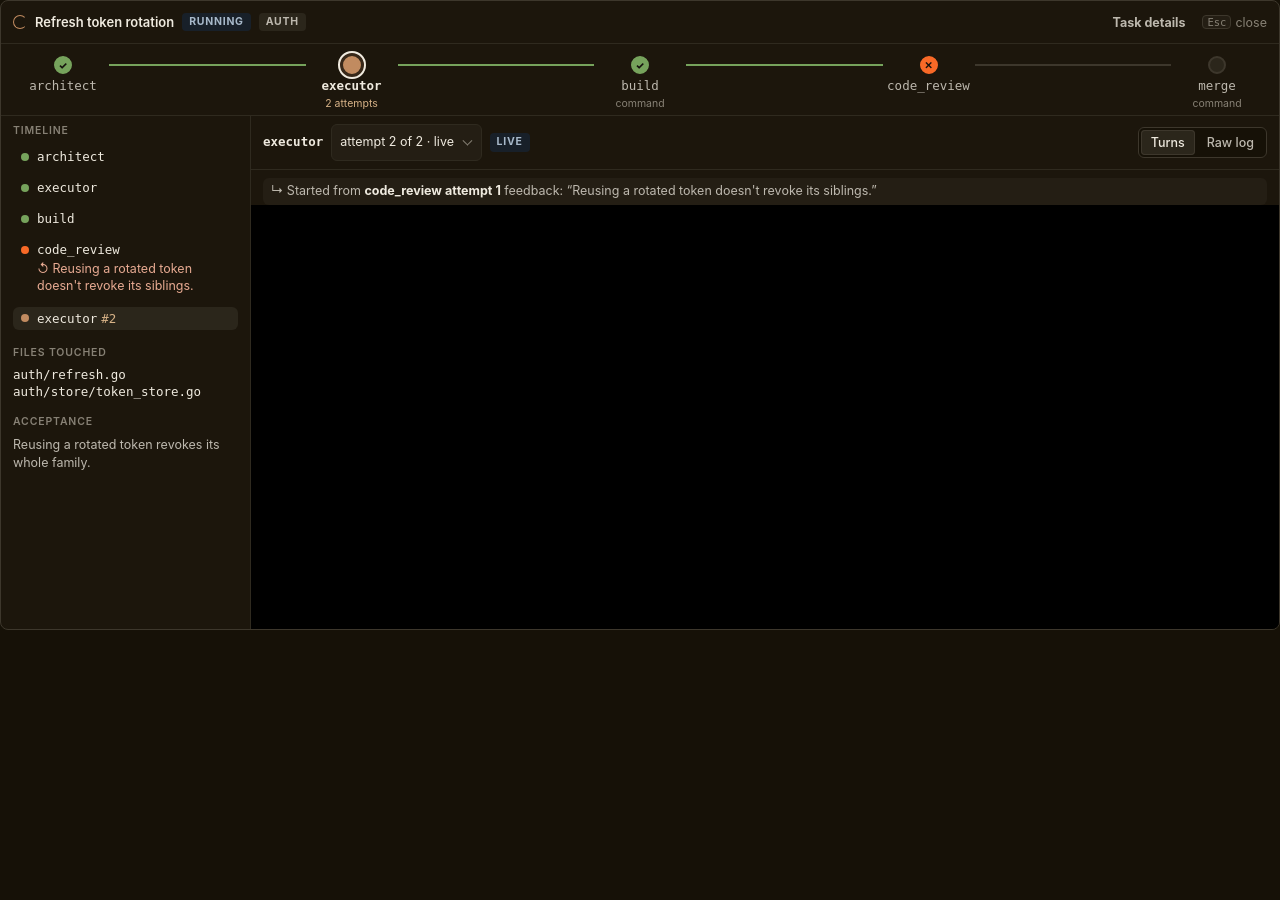
it: TaskLens › says No output. when a finished attempt's log ends empty, instead of an empty terminal
The width and height of the screenshot is (1280, 900).
Click the button with aria-label "build: done": (640, 84) [594,56,686,111]
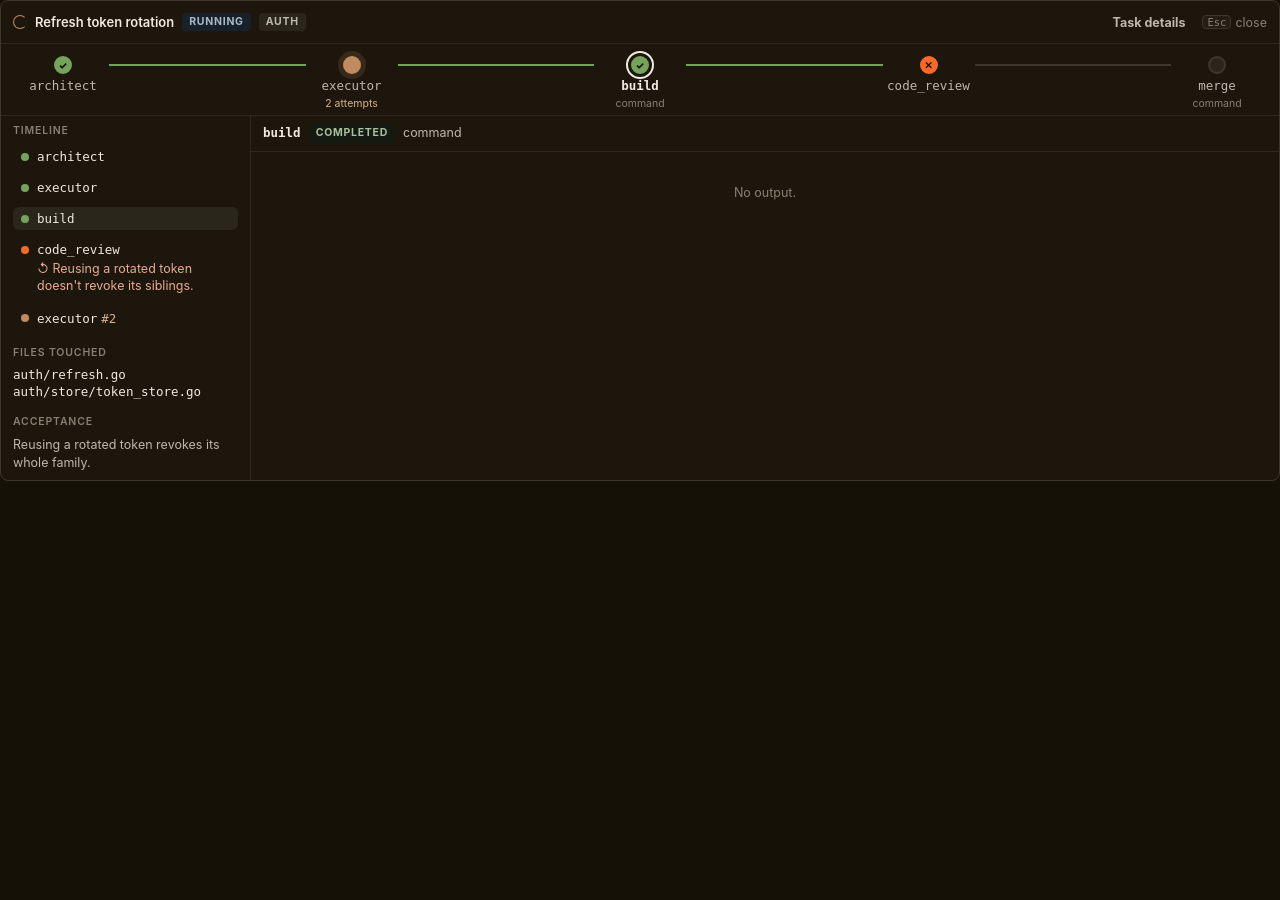
Expected: the text "No output." is shown, [734,185,796,200]
Expected: the element with test id "terminal-view" is gone
